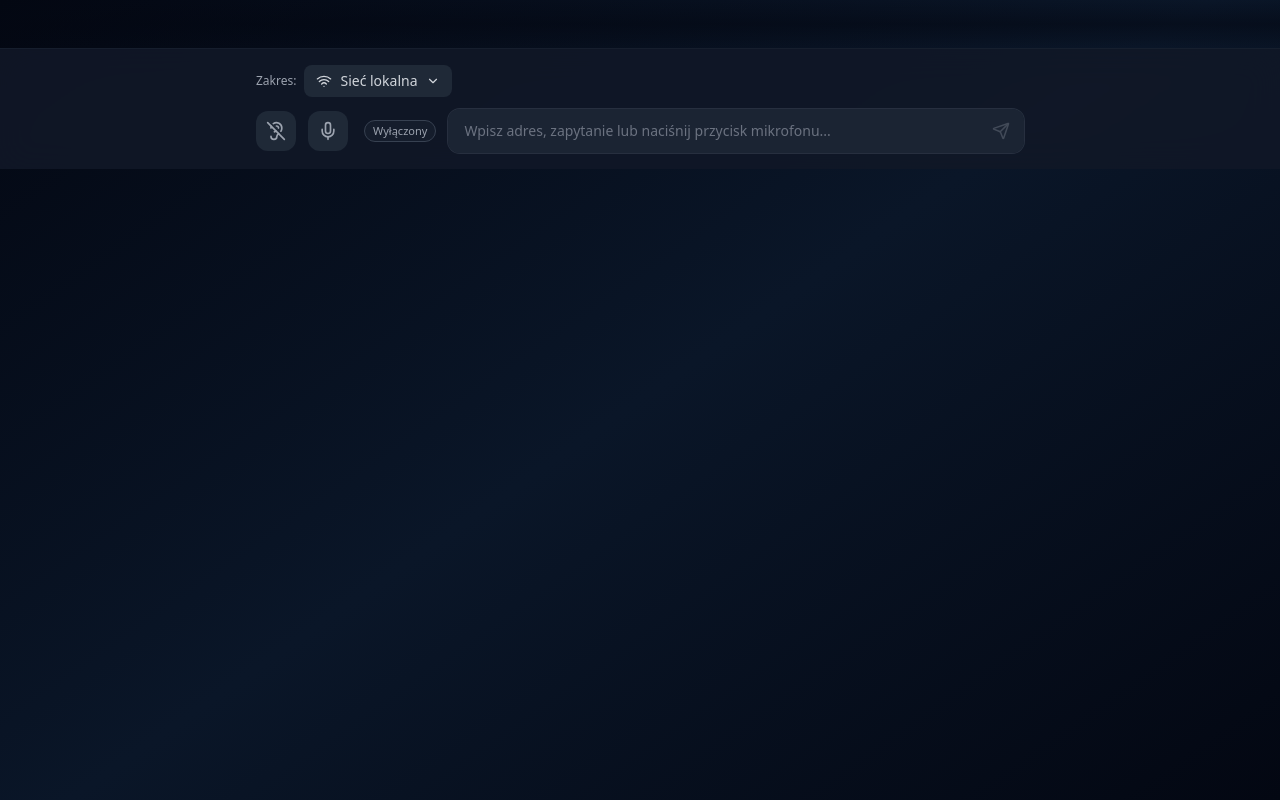
Chat — browse flow › pokazuje błąd gdy browse się nie powiedzie
In the field with placeholder "Wpisz adres, zapytanie lub naciśnij przycisk mikrofonu...": coordinates (736, 131) [448, 109, 1024, 153], type "https://onet.pl"
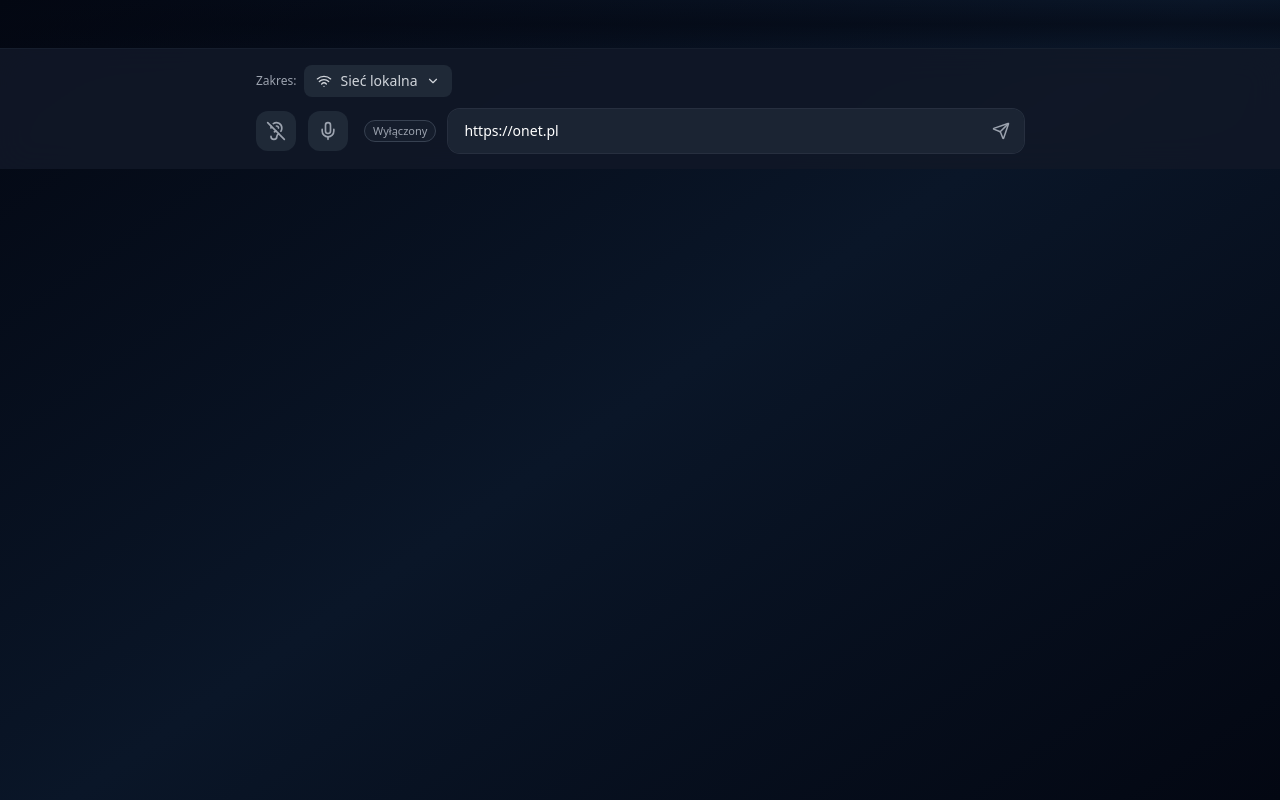
Press Enter in the field with placeholder "Wpisz adres, zapytanie lub naciśnij przycisk mikrofonu...", box [448, 109, 1024, 153]
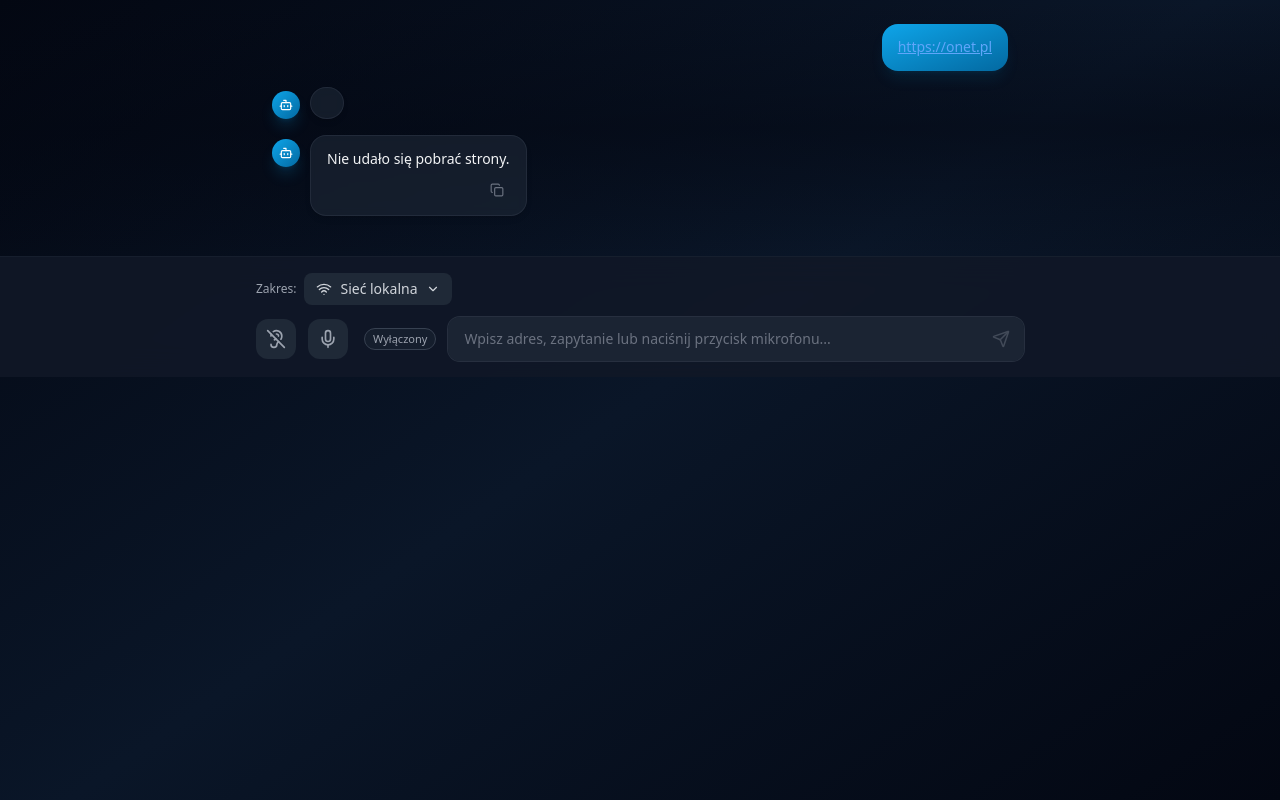
Check: the text "Nie udało się pobrać strony." is shown, box [327, 148, 510, 171]
